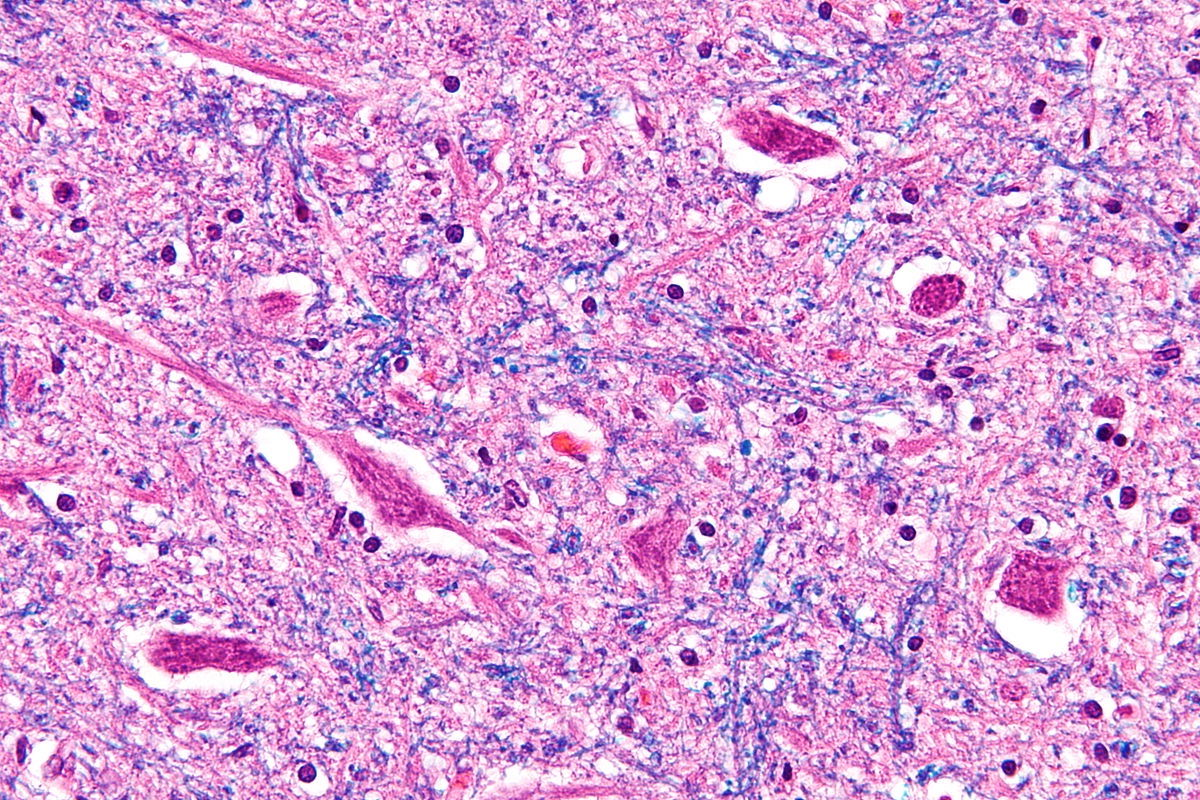neuron: (316, 424, 495, 556)
